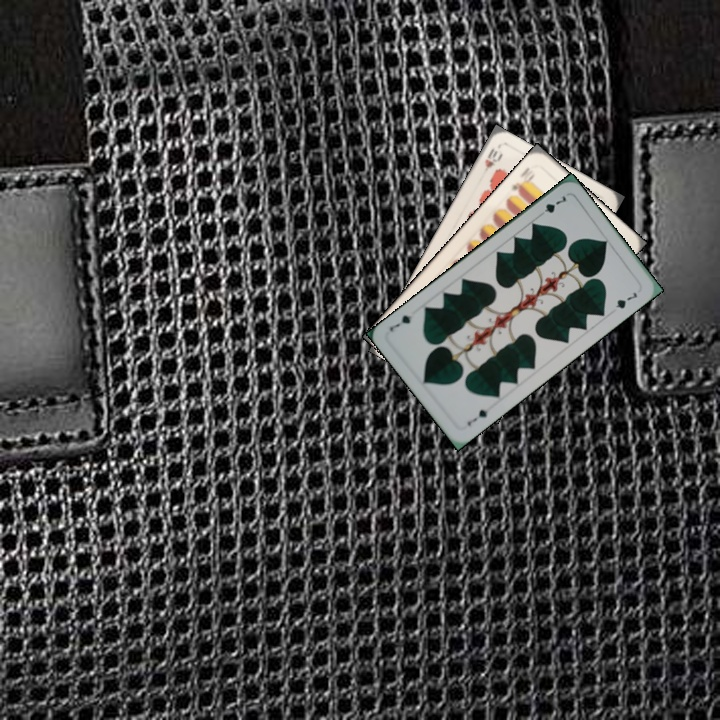E10: (506, 163, 537, 196)
G7: (534, 190, 569, 220), (463, 405, 490, 428)
H10: (478, 144, 505, 180)
